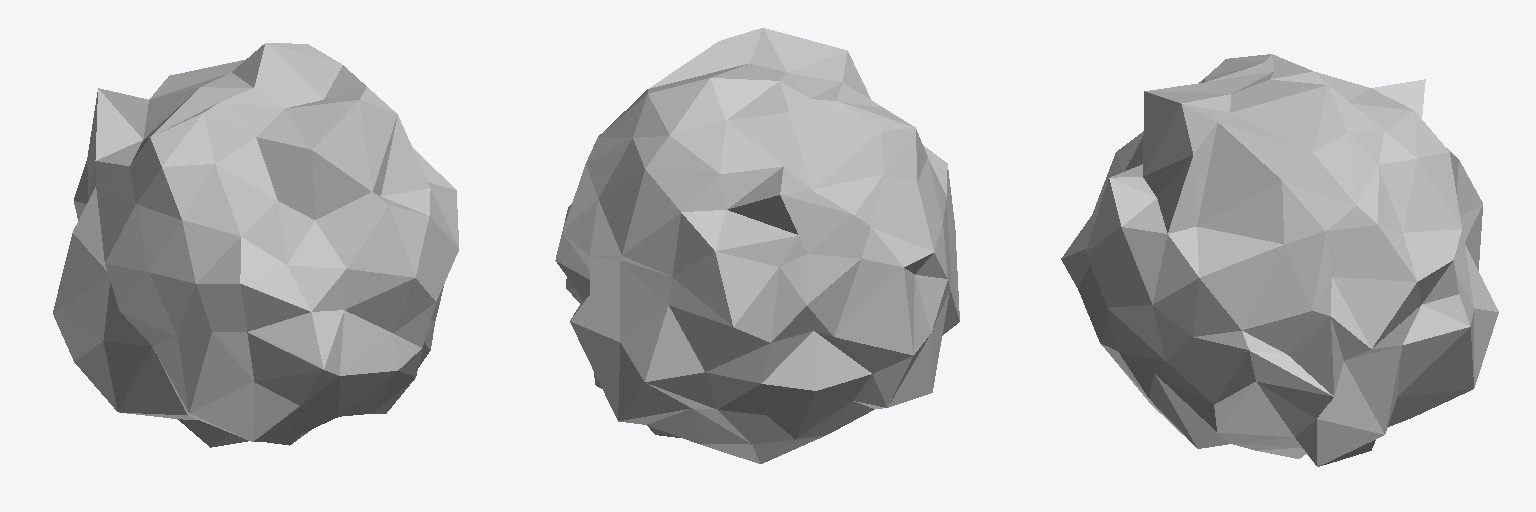
Rendered from fire_000007.obj.
The picture shows the model from 3 angles: view 1: azimuth 30°, elevation 25°; view 2: azimuth 150°, elevation 25°; view 3: azimuth 270°, elevation 25°; orthographic projection.
Parts seen in each view (by area): view 1: Icosphere; view 2: Icosphere; view 3: Icosphere.
Boxes of the visible parts, <box> form: Icosphere: <box>53,43,458,447</box>; Icosphere: <box>555,28,959,463</box>; Icosphere: <box>1061,54,1498,466</box>.
Size of the model in its own units: 1.53 by 1.57 by 1.66.